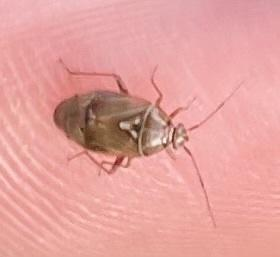plant_bugs: (26, 33, 270, 242)
